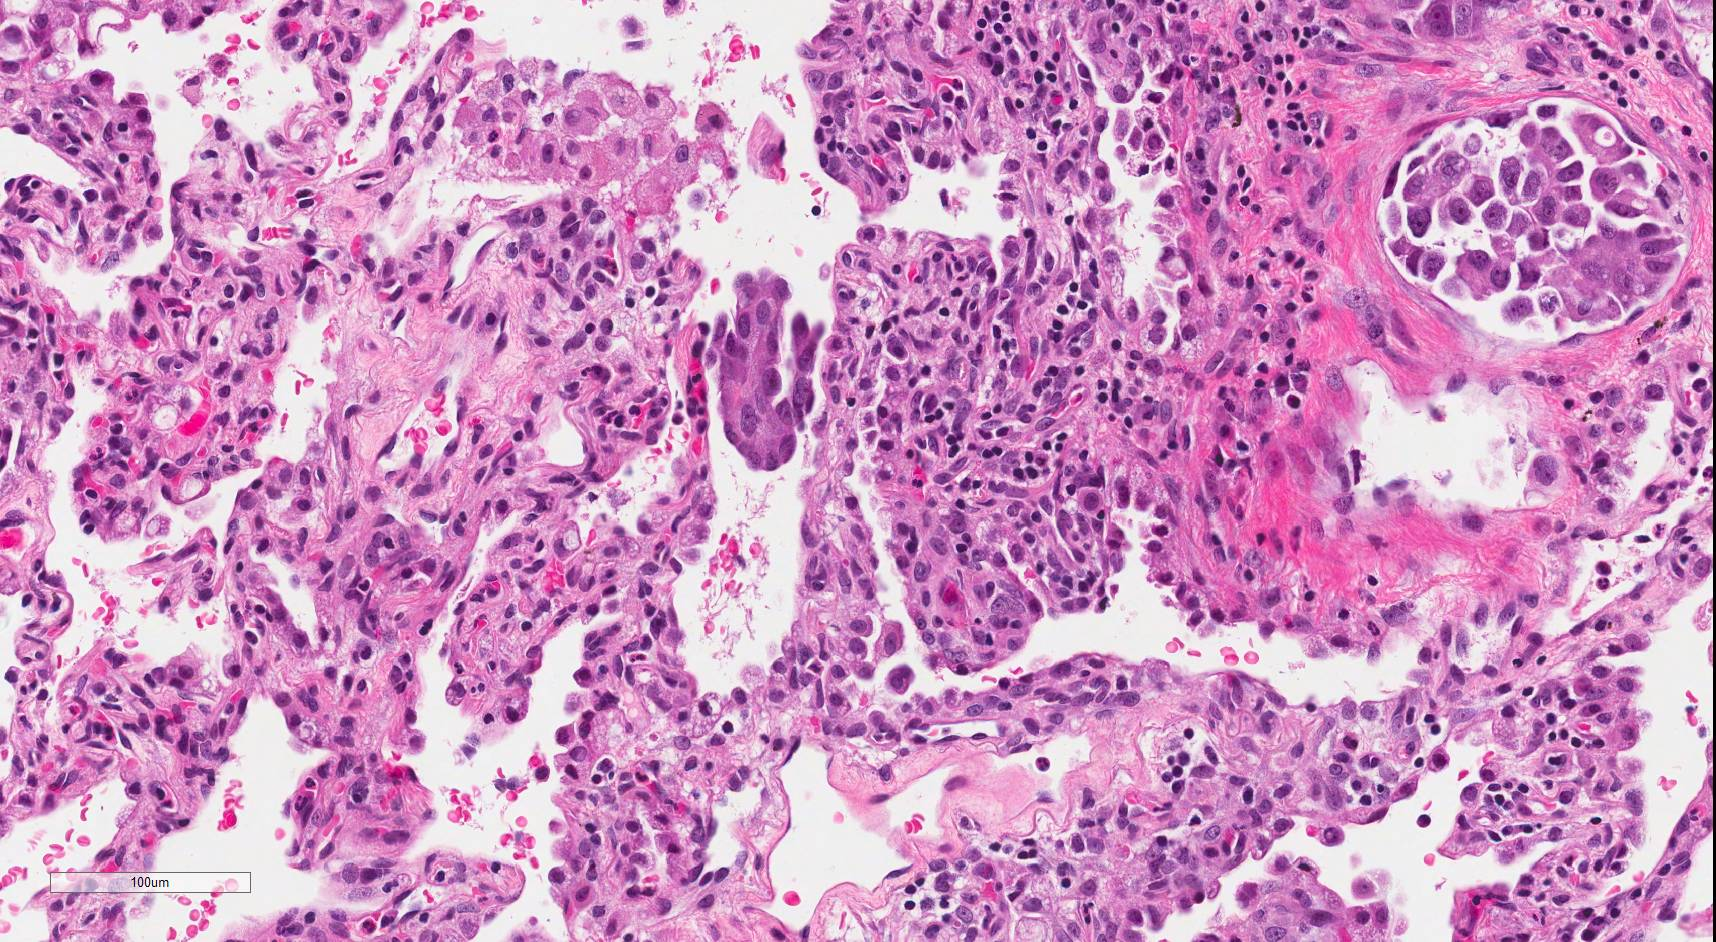stas: (706, 262, 820, 472)
